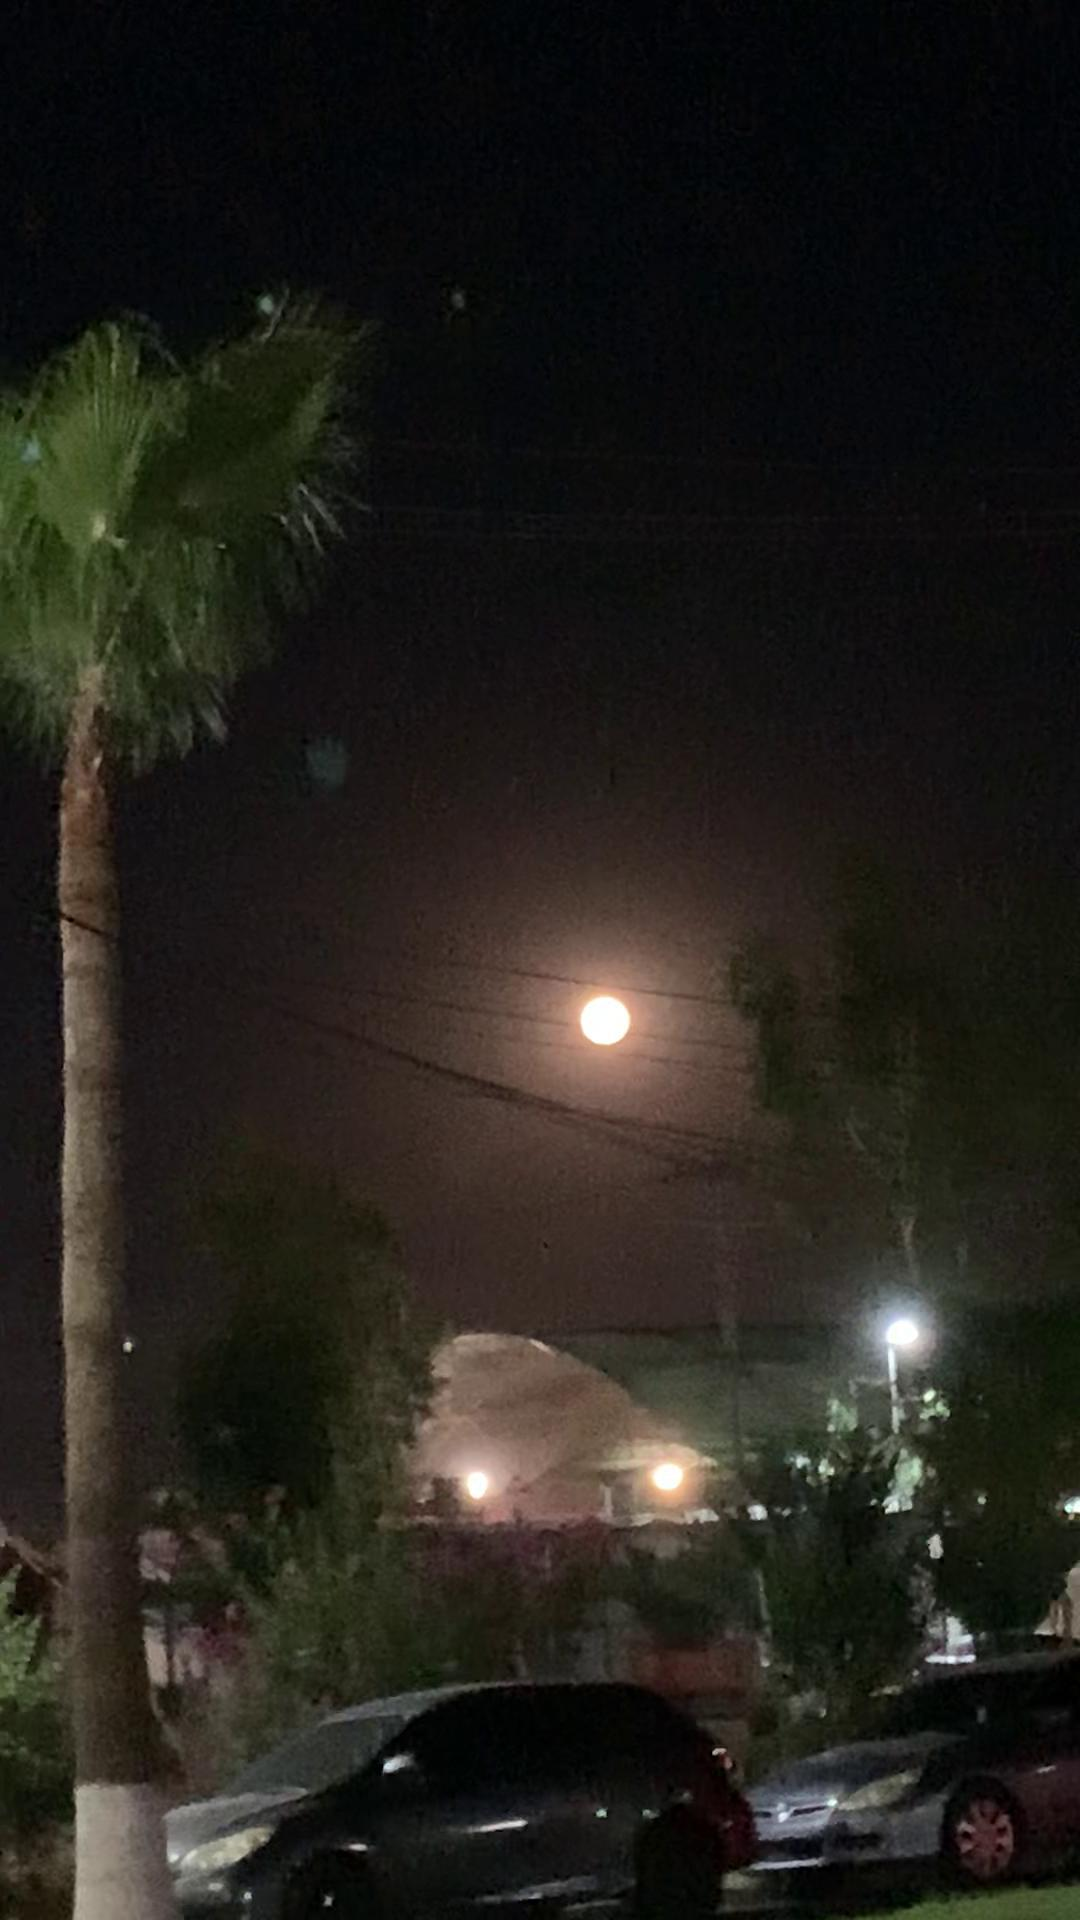moon: (560, 978, 642, 1038)
